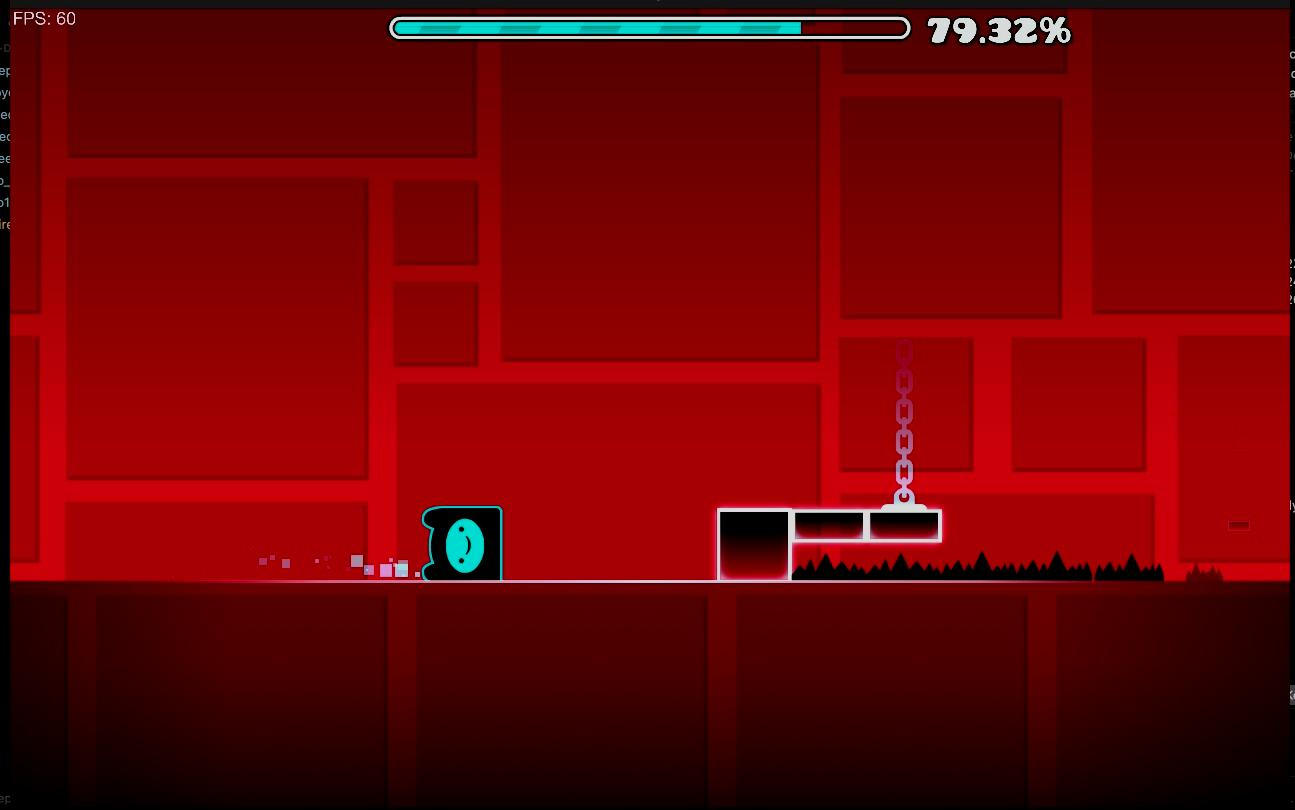block: (717, 510, 788, 582)
platform: (794, 511, 938, 541)
player: (422, 506, 501, 579)
spike: (793, 553, 1163, 580)
